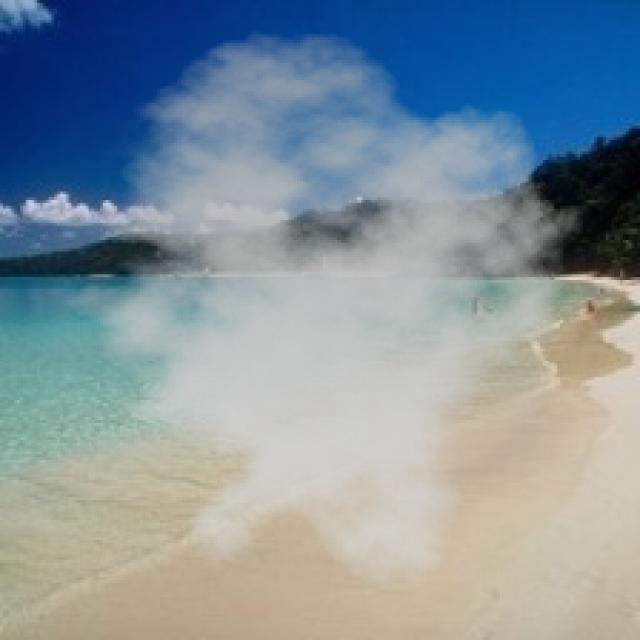smoke: (37, 31, 597, 588)
